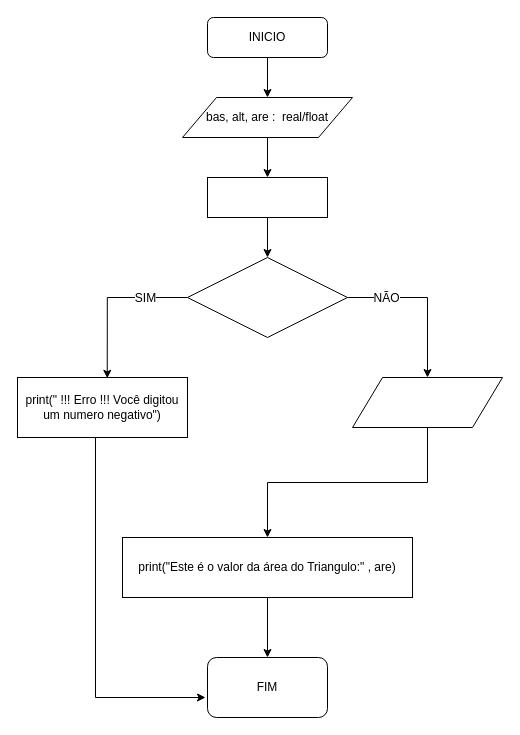
Some shapes in this 520 by 735 pixel diagram are drawn without their labels. The box of each missing label's shape, as (x1, y1, x2, y2) in pixels:
(bas <= 0) ou (alt <= 0): (186, 256, 348, 338)
are = (bas * alt) / 2: (352, 376, 502, 428)
leia (bas, alt): (206, 176, 328, 218)
